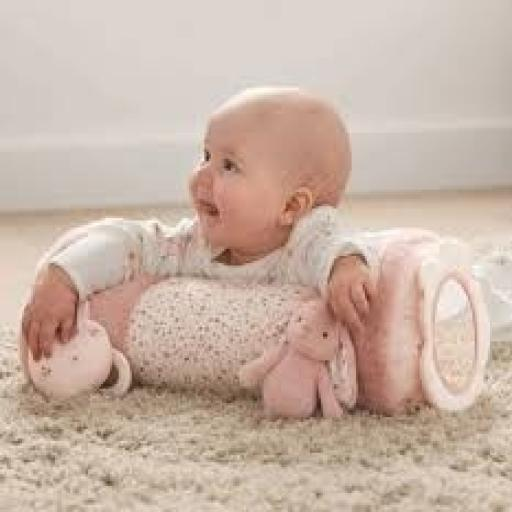baby: (22, 83, 371, 355)
